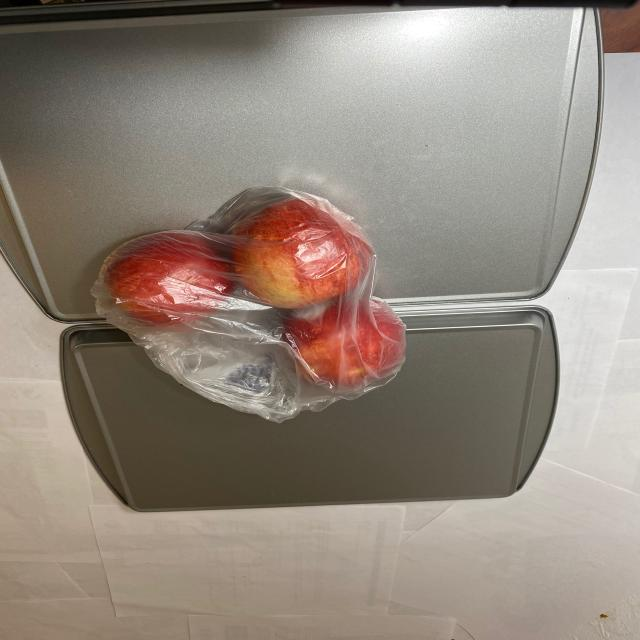apple: (96, 196, 414, 401)
